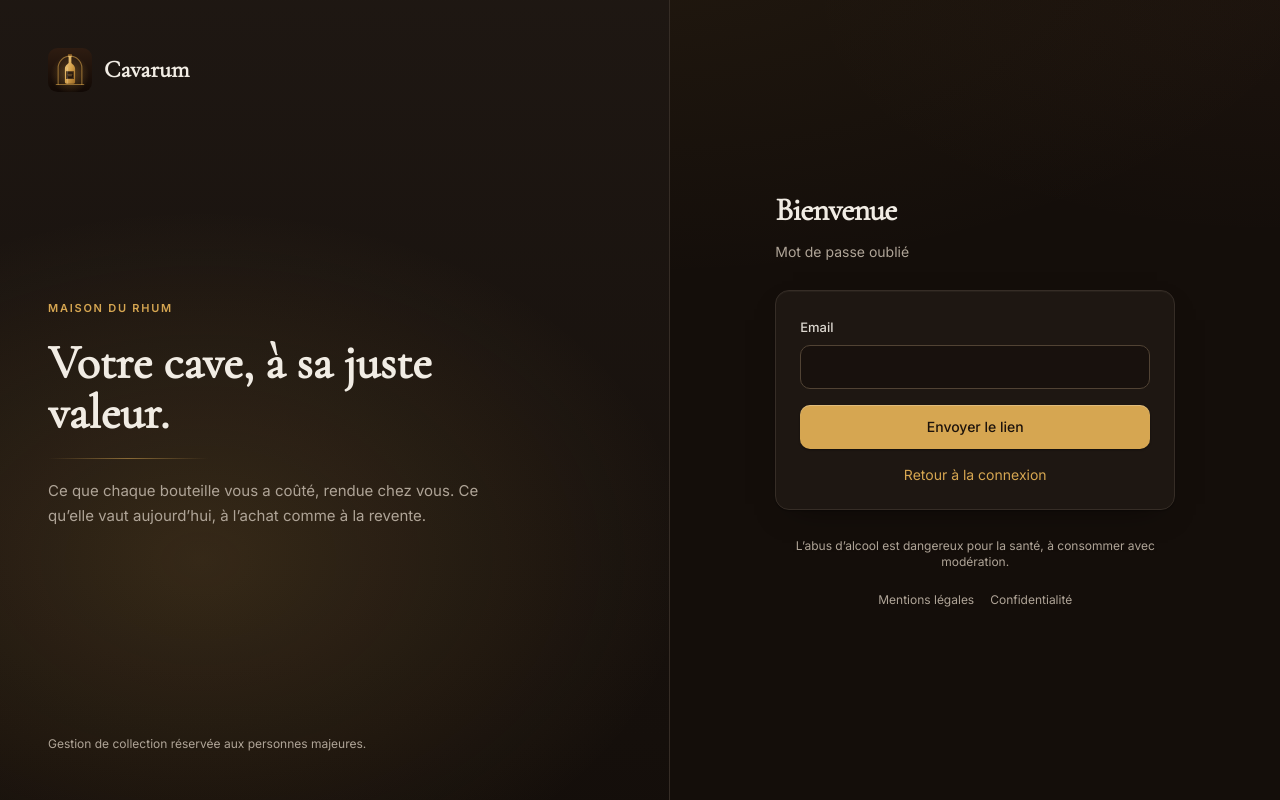
Test: ForgotPasswordPage › refuse un email invalide
The width and height of the screenshot is (1280, 800).
Type "pas-un-email" into the field labelled "Email" at (975, 367), box [800,345,1150,389]
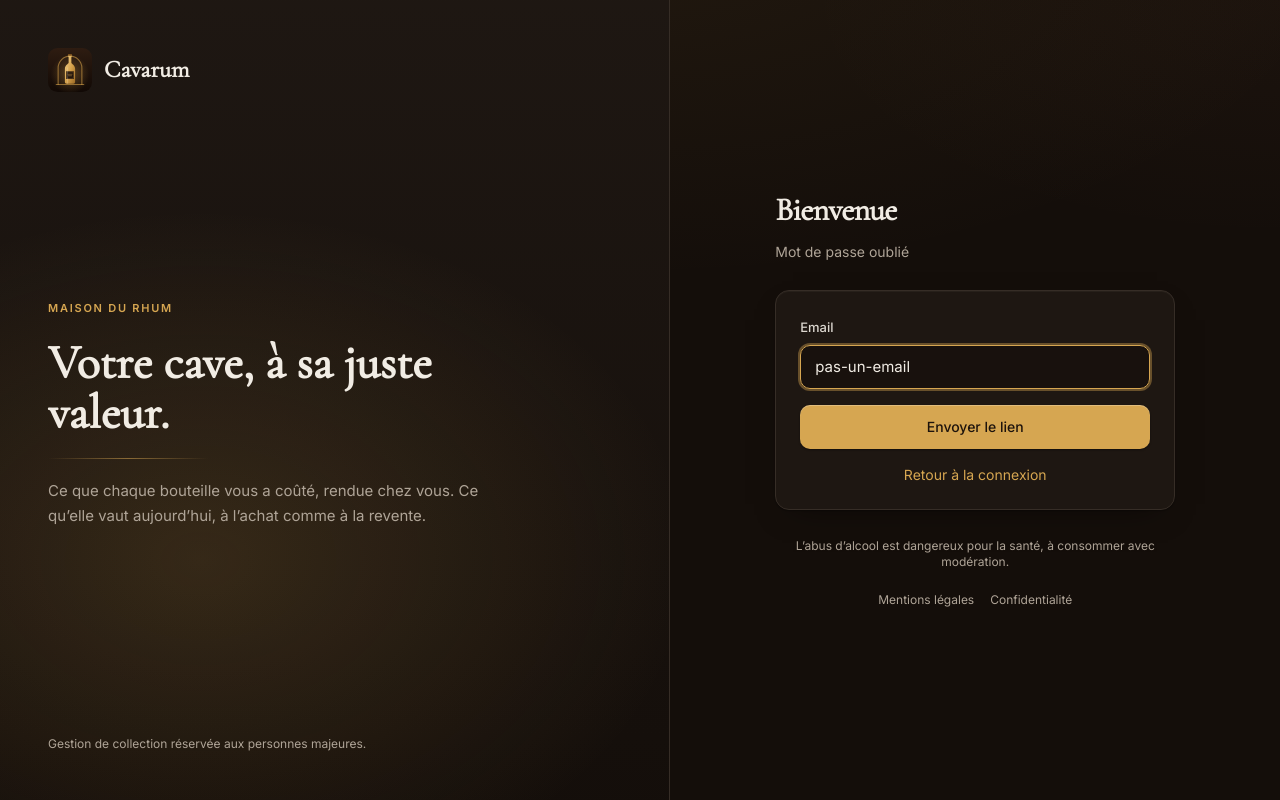
Click the button "Envoyer le lien" at (975, 427), box [800,405,1150,449]
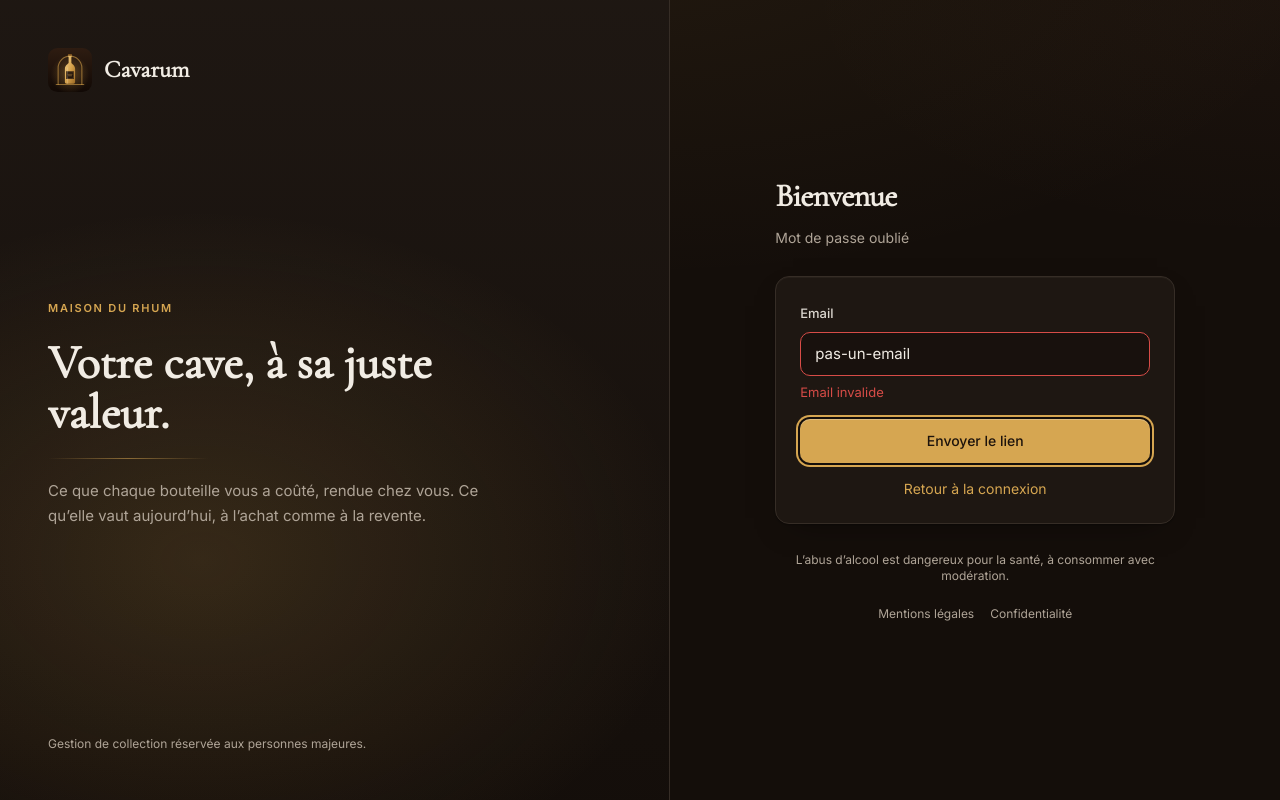
Result: the text "Email invalide" is shown at [800,384,884,400]
